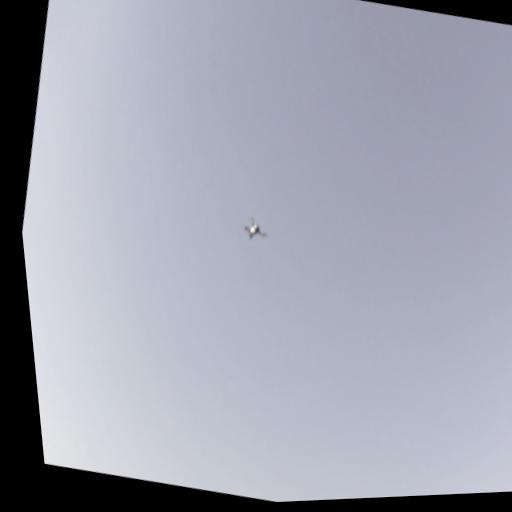drones: (235, 212, 272, 249)
